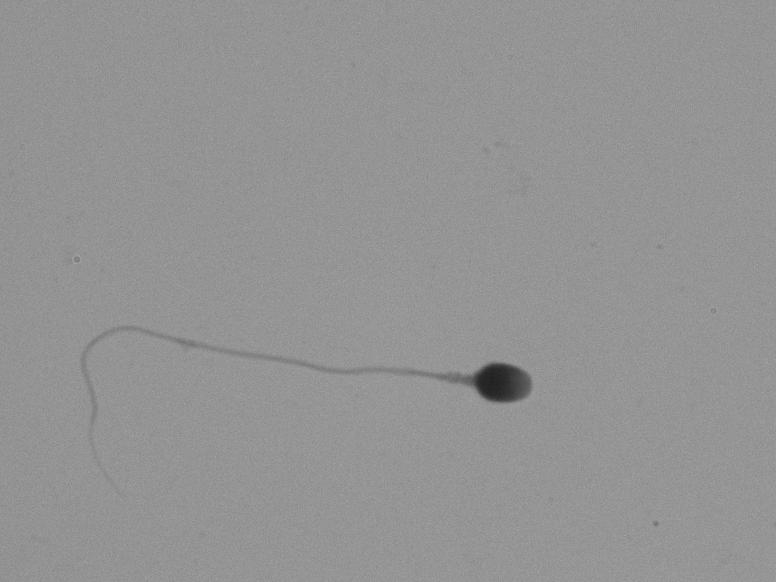Normal: (68, 244, 570, 477)
